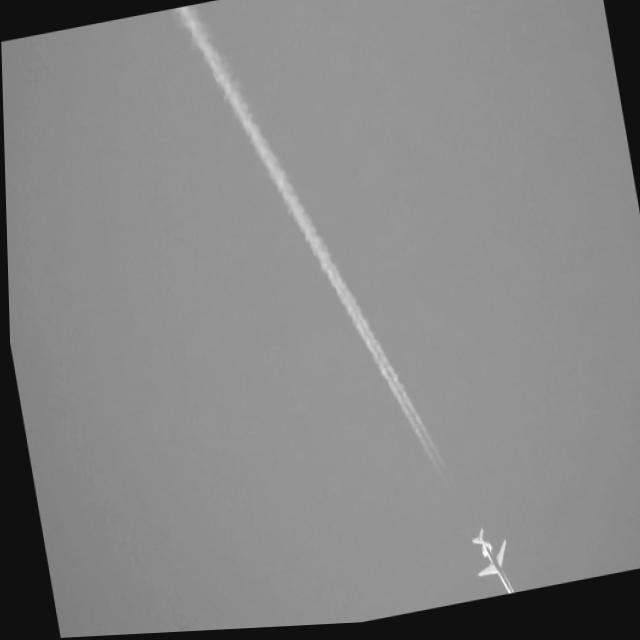aeroplane: (465, 524, 518, 605)
